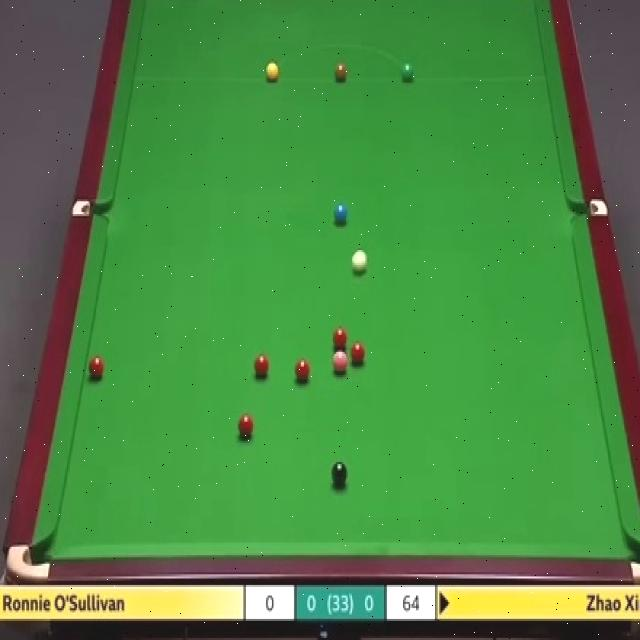black-ball: (331, 461, 349, 488)
blue-ball: (335, 202, 348, 226)
brown-ball: (334, 63, 347, 83)
green-ball: (401, 61, 414, 85)
pink-ball: (333, 350, 349, 374)
red-ball: (294, 358, 312, 387), (254, 352, 271, 382), (350, 341, 368, 369), (237, 413, 255, 439), (88, 354, 104, 382), (333, 325, 348, 352)
white-ball: (348, 247, 369, 276)
yellow-ball: (266, 60, 279, 81)
